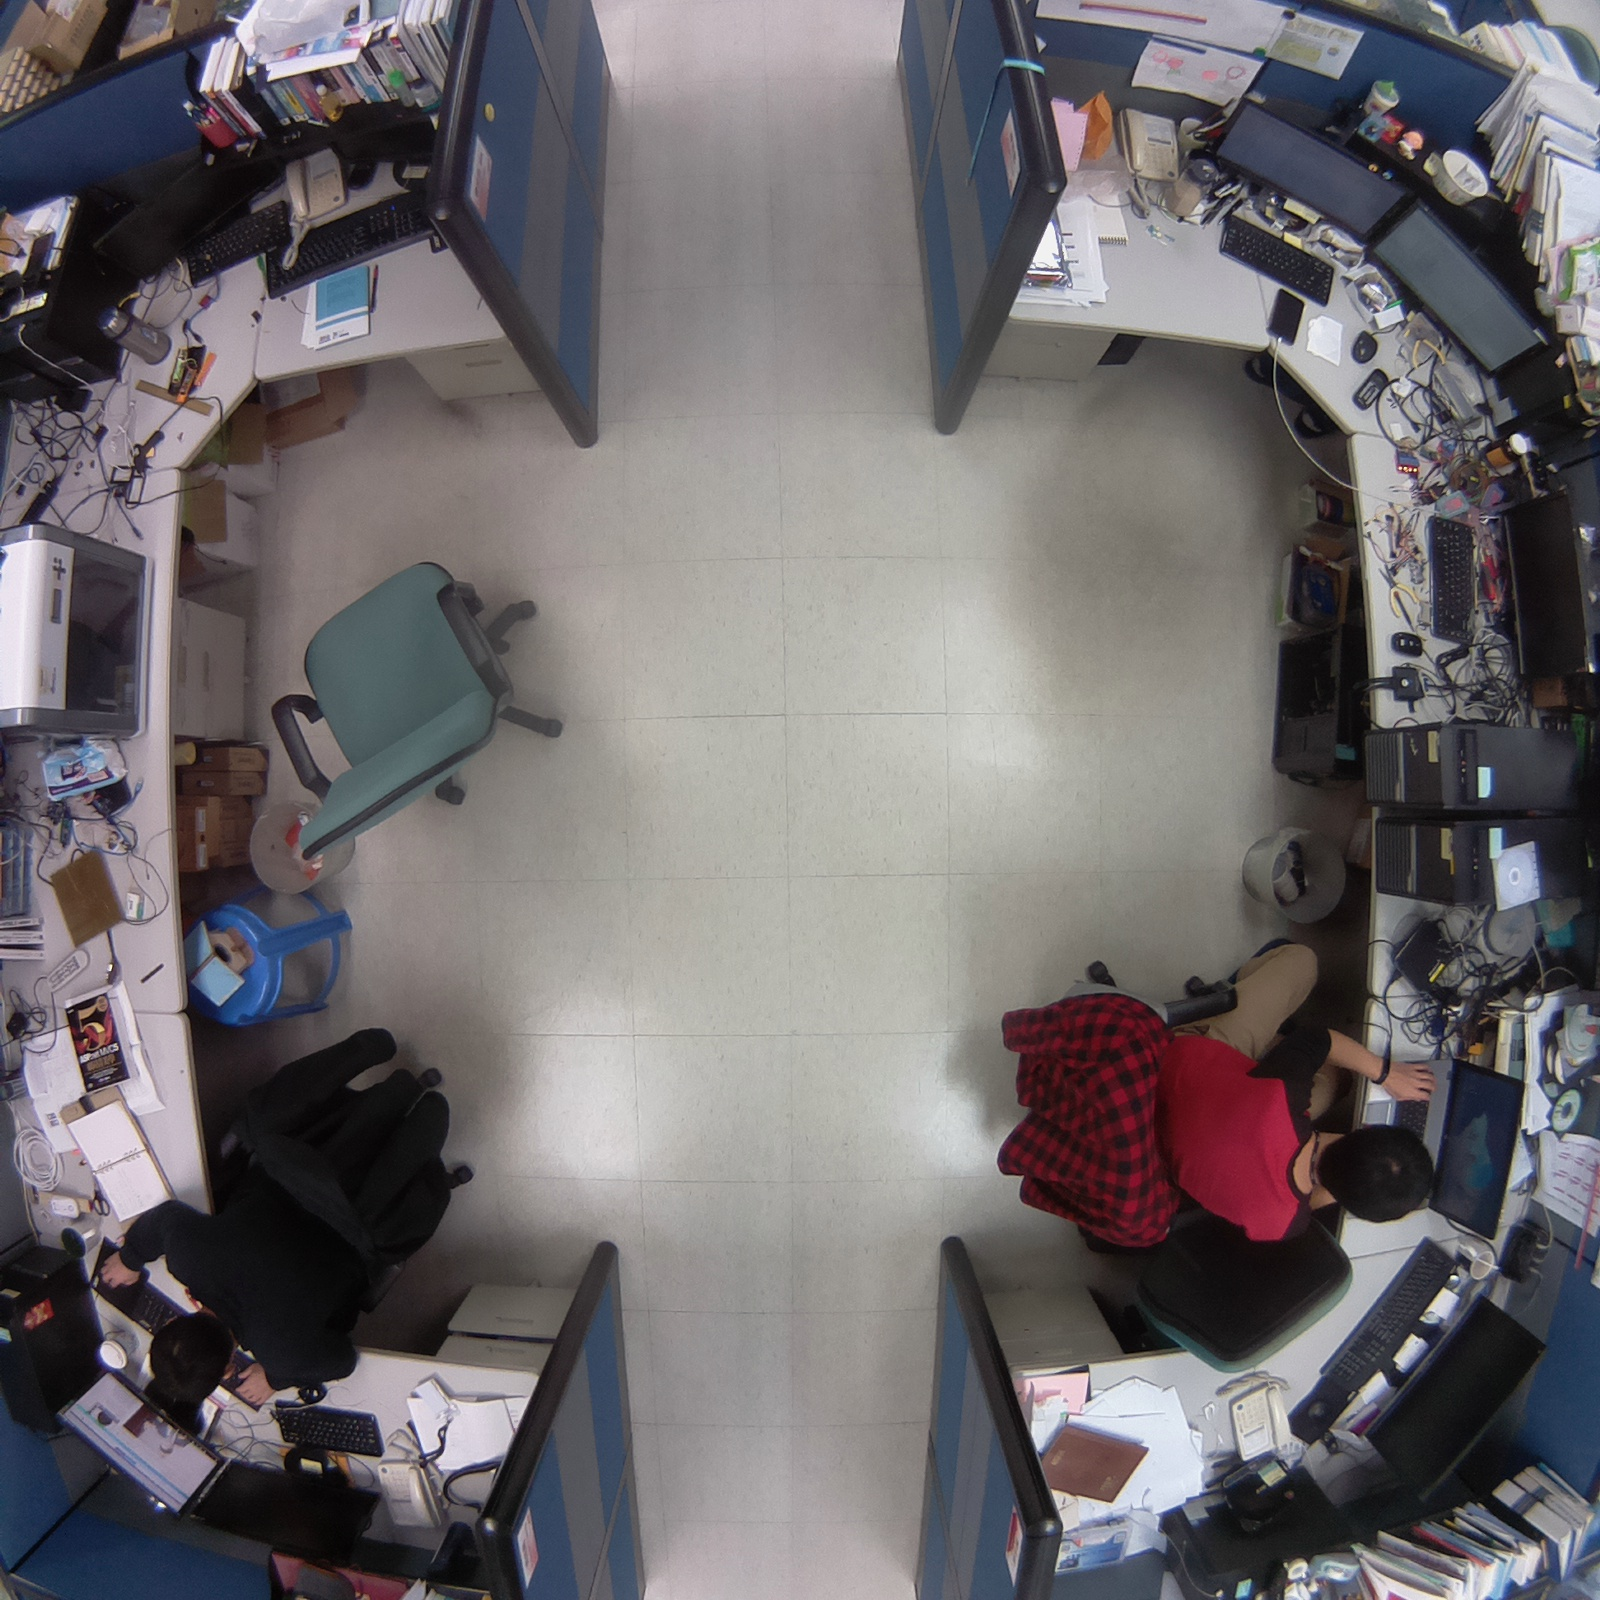chair: (258, 522, 588, 881), (1073, 1178, 1368, 1391)
head: (1310, 1112, 1444, 1234), (142, 1304, 238, 1410)
sitting: (99, 1001, 509, 1415), (968, 922, 1447, 1265)
